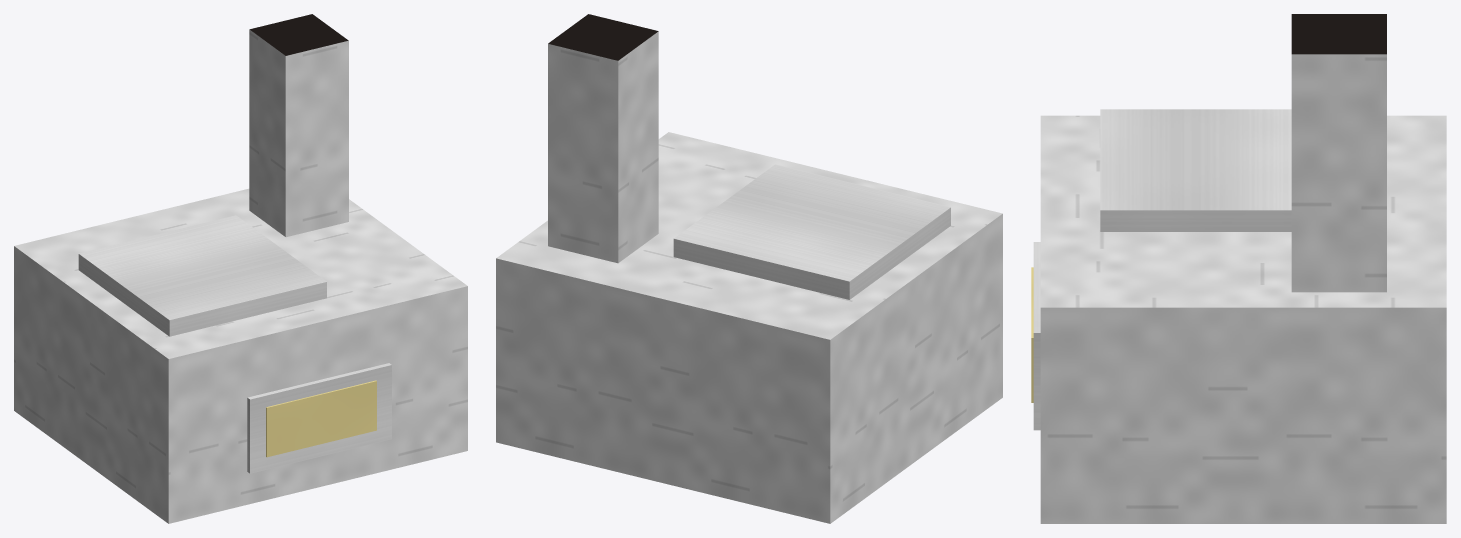
Rendered from crematorium.obj.
3 views of the same model, side by side, from view 1: azimuth 30°, elevation 25°; view 2: azimuth 150°, elevation 25°; view 3: azimuth 270°, elevation 25° (orthographic). The views are drawn at different scales.
Parts seen in each view (by area): view 1: crematorium; view 2: crematorium; view 3: crematorium.
Boxes of the visible parts, bbox=[...] form: crematorium: bbox=[14, 14, 467, 523]; crematorium: bbox=[496, 14, 1002, 523]; crematorium: bbox=[1031, 14, 1446, 523].
Size of the model in its own units: 1.9 by 2.1 by 1.74.
